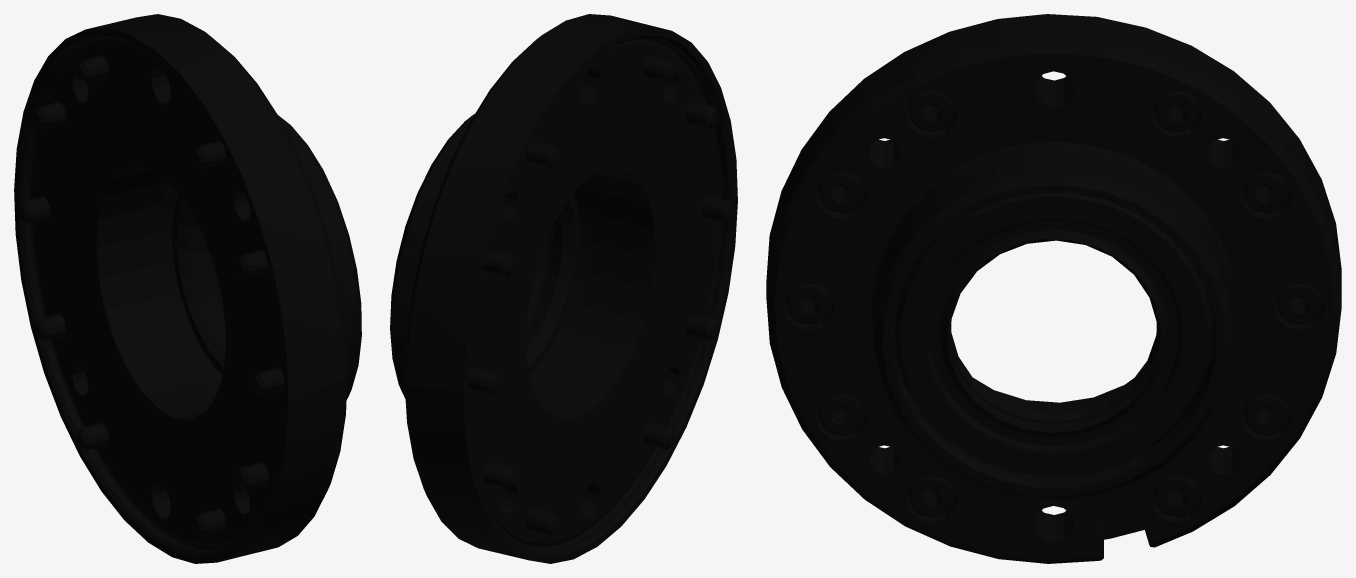
The picture shows the model from 3 angles, left to right: view 1: azimuth 30°, elevation 25°; view 2: azimuth 150°, elevation 25°; view 3: azimuth 270°, elevation 25°; orthographic projection. The views are drawn at different scales.
Visible parts, largest first — view 1: link_6; view 2: link_6; view 3: link_6.
Part boxes in pixels (x1,y1,x2,y2): link_6: [14, 14, 361, 563]; link_6: [390, 14, 737, 563]; link_6: [766, 14, 1341, 563].
Size of the model in its own units: 0.0215 by 0.072 by 0.072.
Materials: 1 (1 with a texture image).
